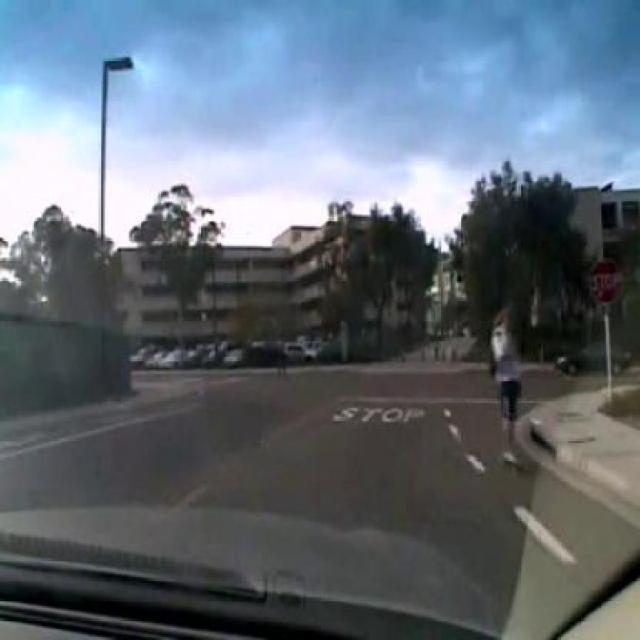stop: (587, 257, 624, 309)
